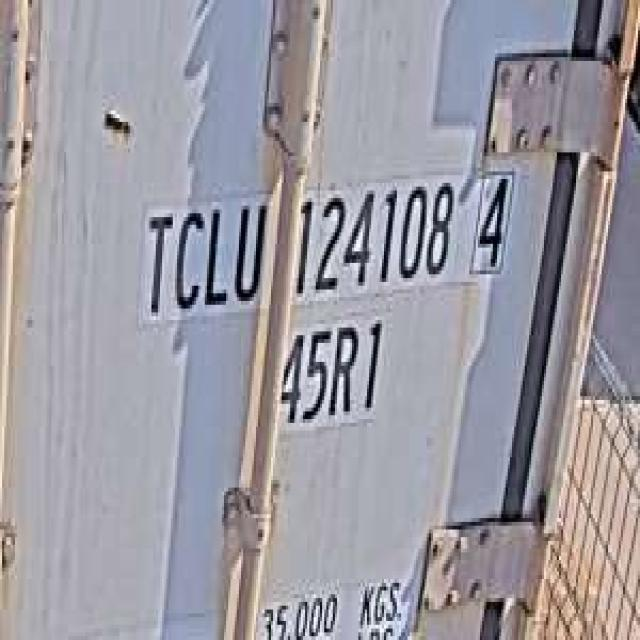dv: (469, 156, 518, 282)
owner: (134, 183, 269, 320)
serial: (288, 168, 461, 301)
size: (275, 312, 388, 430)
